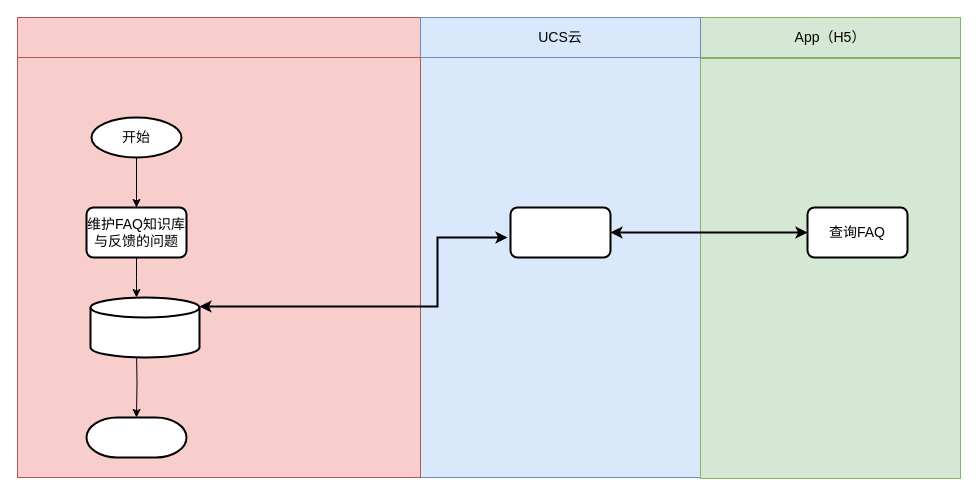
The diagram is 978 pixels wide and 496 high, and some of its shapes have lost their labels. Each missing label, with the box of its shape:
DevOps云: (16, 16, 420, 58)
接收请求，查询FAQ: (509, 206, 611, 258)
结束: (85, 416, 187, 458)
